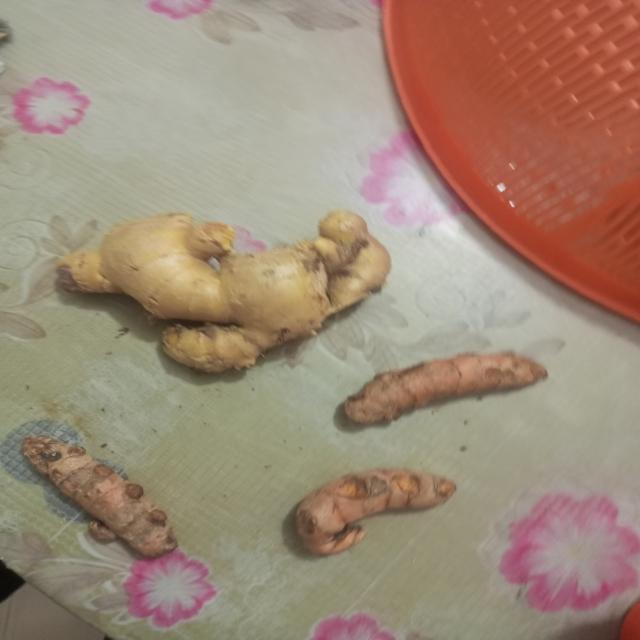ginger: (58, 206, 390, 364), (27, 437, 177, 553), (287, 472, 463, 549), (351, 353, 541, 413)
